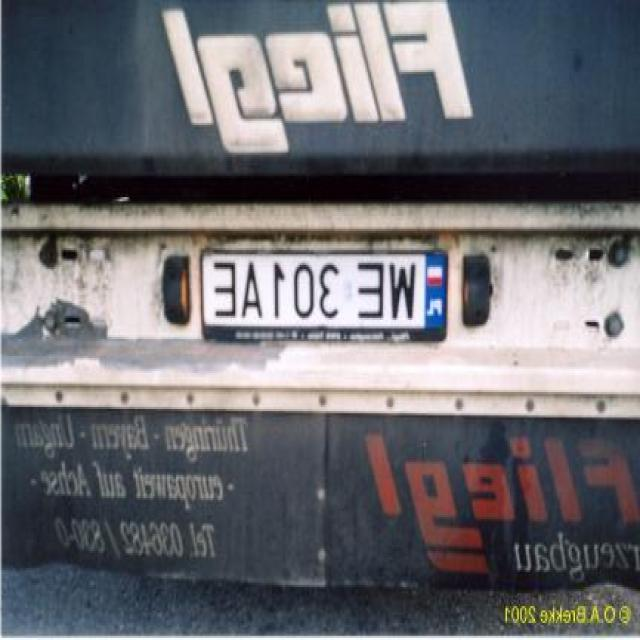pl_license_plate: (205, 252, 448, 324)
